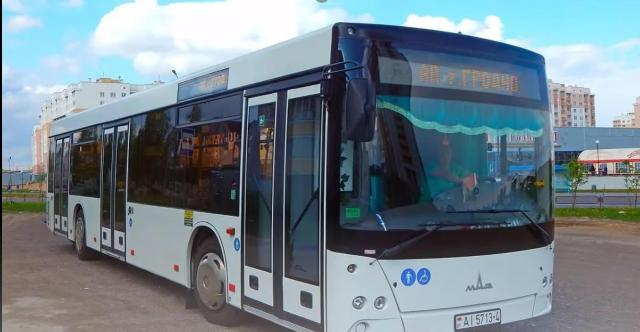bus: (43, 21, 570, 332)
